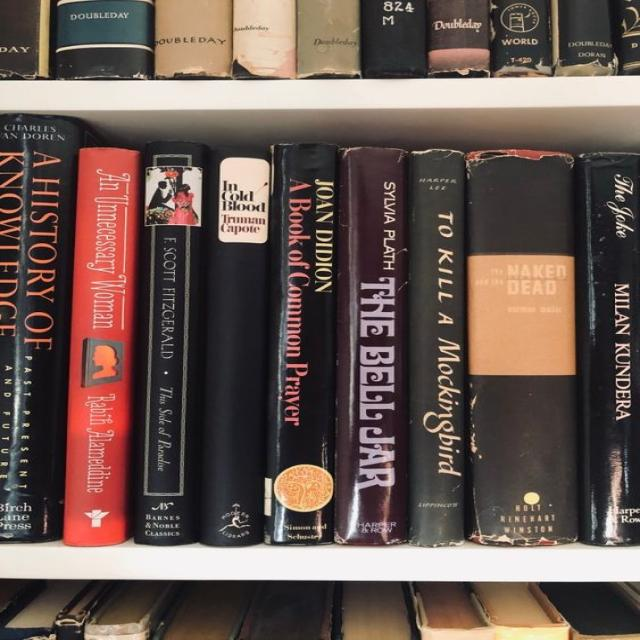book: (466, 151, 576, 543), (0, 112, 82, 542), (63, 147, 139, 546), (196, 147, 272, 545), (331, 148, 406, 543), (265, 144, 338, 546), (134, 141, 207, 543), (408, 149, 466, 545), (585, 153, 640, 544)
